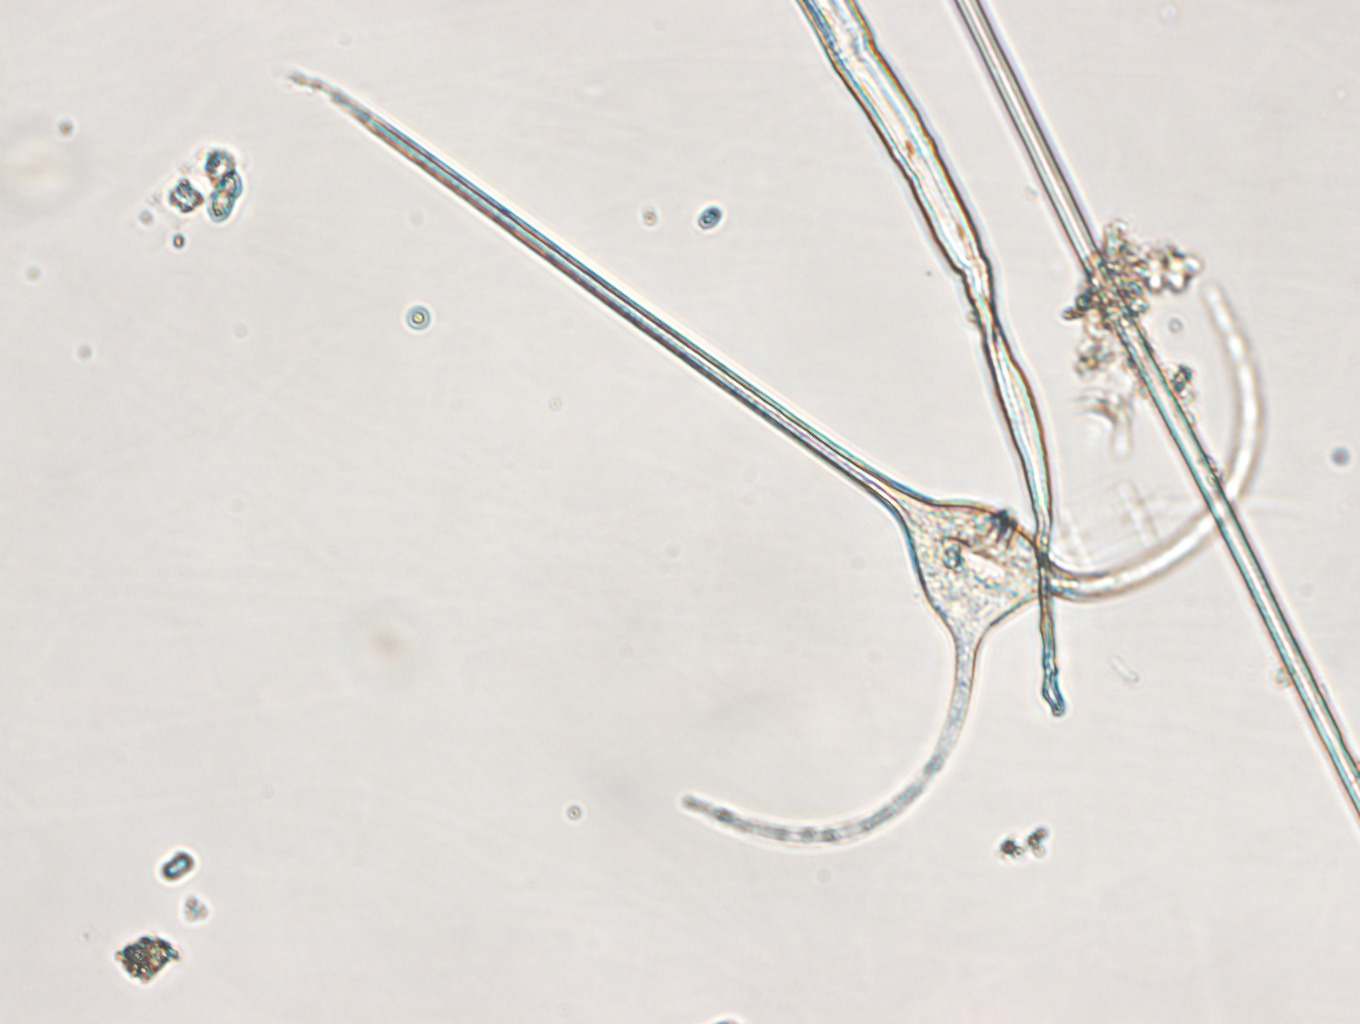ceratium trichoceros: (287, 71, 1274, 848)
